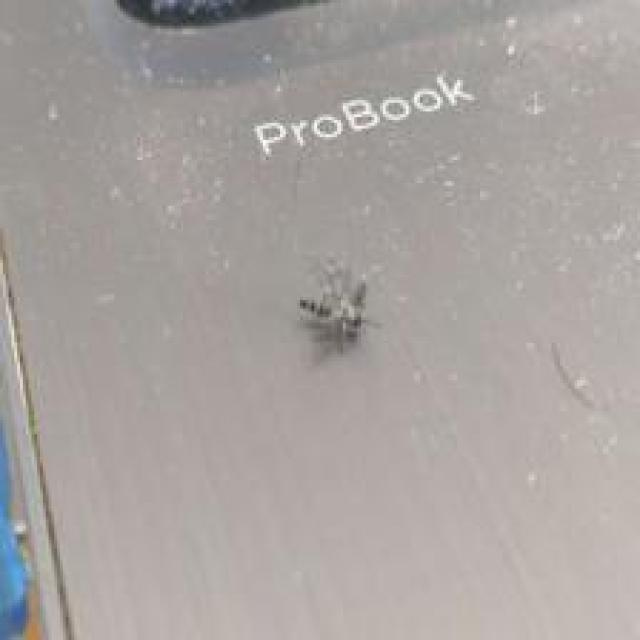Aedes albopictus: (296, 258, 378, 356)
